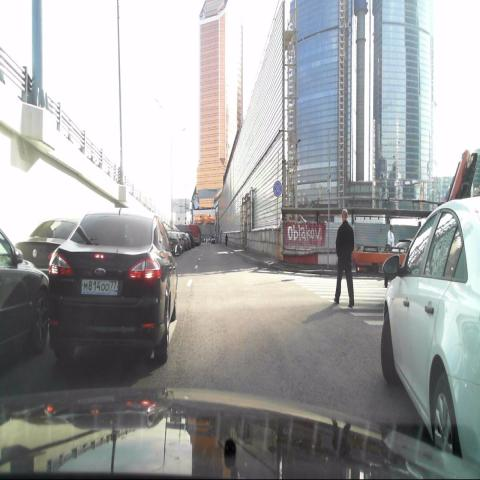3_27: (273, 181, 283, 198)
